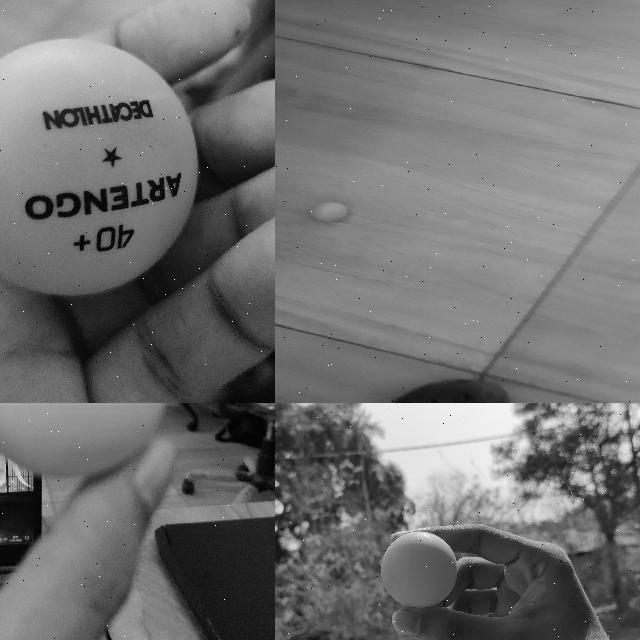ping-pong-ball: (0, 38, 199, 299), (0, 403, 165, 481), (381, 528, 457, 608), (308, 202, 343, 221)
